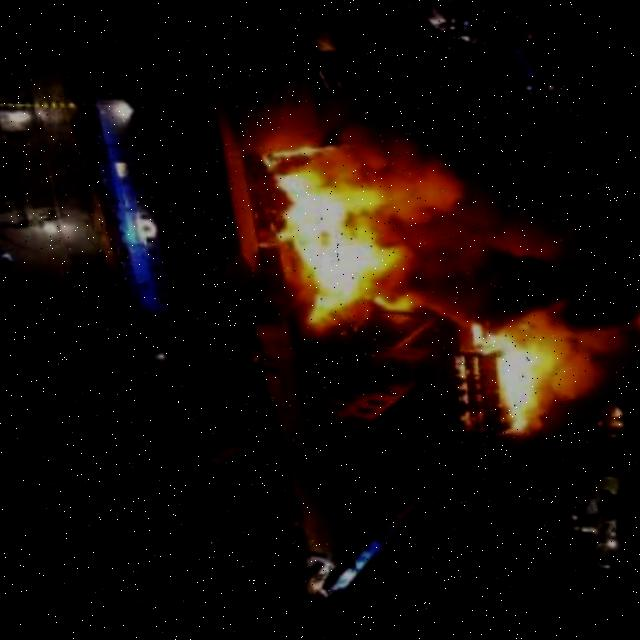fire: (245, 137, 429, 347), (429, 306, 571, 458)
